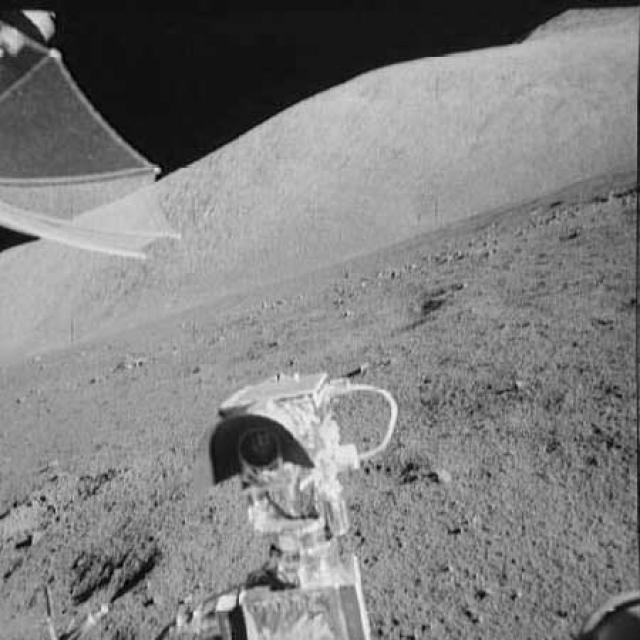artifact: (179, 364, 407, 639), (0, 4, 194, 265), (566, 584, 639, 638)
crater: (296, 277, 475, 361)
